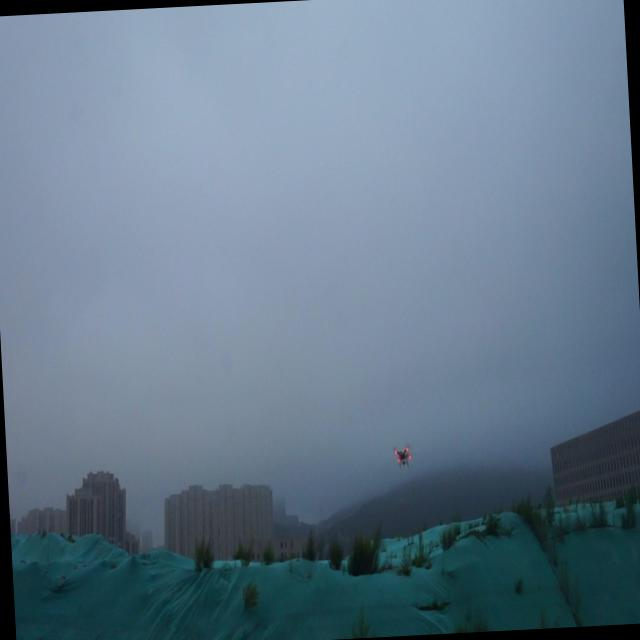drone: (390, 438, 414, 474)
